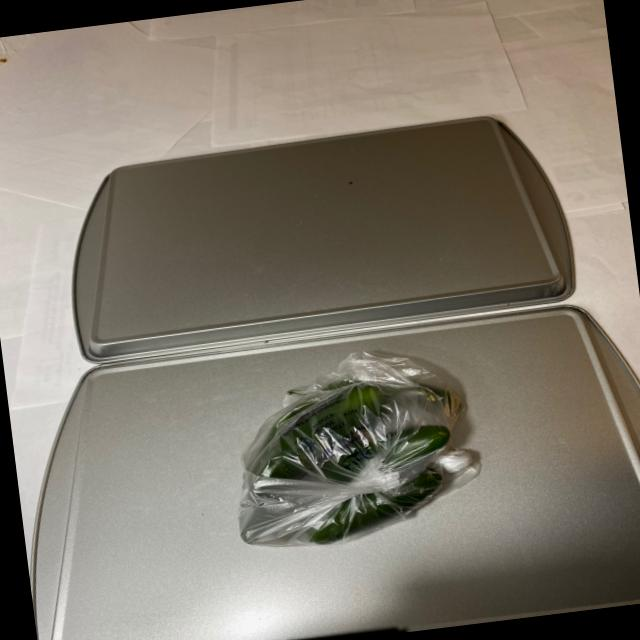chilli: (240, 362, 472, 552)
